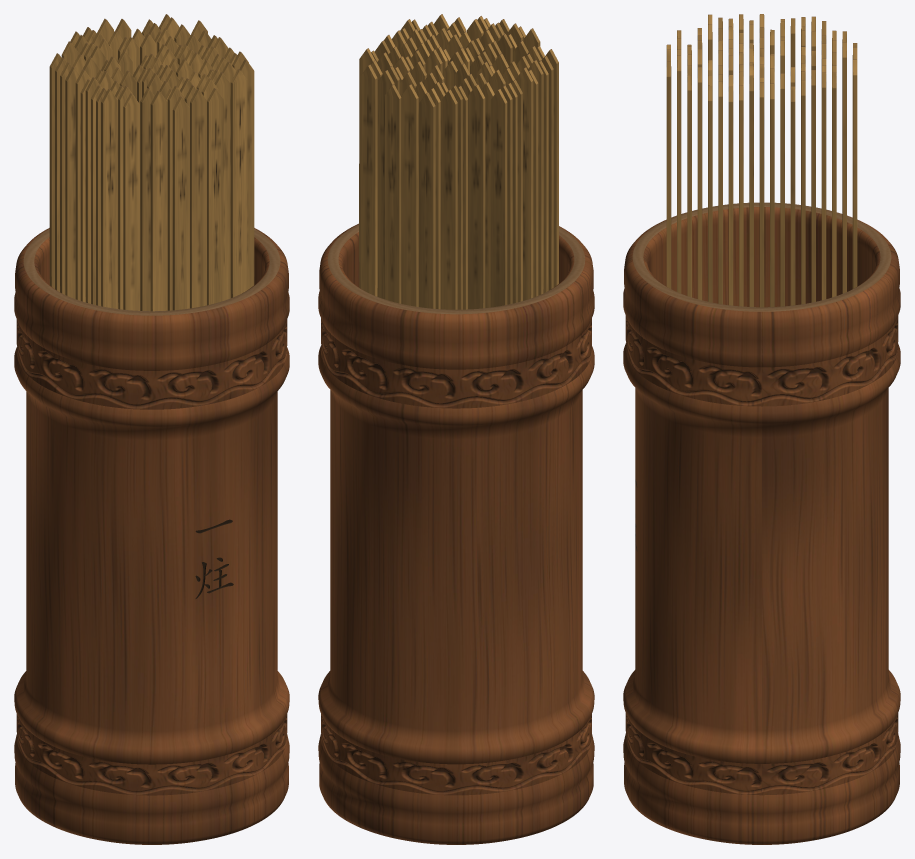
Rendered from yizhu-mobile-webp-05b6b9e70f9b.glb.
The picture shows the model from 3 angles, left to right: view 1: azimuth 30°, elevation 25°; view 2: azimuth 150°, elevation 25°; view 3: azimuth 270°, elevation 25°; orthographic projection.
Parts seen in each view (by area): view 1: Wood_vessel_surface, Timber incised collar 1, Timber incised collar 0, Stick_049, Stick_010, Stick_040, Stick_052, Stick_073, Stick_079, Stick_019, Stick_027, Stick_058 (+12 smaller); view 2: Wood_vessel_surface, Timber incised collar 1, Timber incised collar 0, Stick_089, Stick_021, Stick_013, Stick_044, Stick_064, Stick_034, Stick_085, Stick_086, Stick_028 (+14 smaller); view 3: Wood_vessel_surface, Timber incised collar 1, Timber incised collar 0, Stick_019, Stick_003, Stick_078, Stick_009, Stick_083, Stick_097, Stick_063, Stick_100, Stick_015 (+10 smaller).
Boxes of the visible parts, x1,y1,x2,y2 form: Wood_vessel_surface: [14, 228, 289, 844]; Timber incised collar 1: [16, 319, 287, 409]; Timber incised collar 0: [16, 714, 287, 795]; Stick_049: [230, 69, 247, 297]; Stick_010: [150, 90, 167, 311]; Stick_040: [172, 96, 189, 310]; Stick_052: [101, 88, 117, 308]; Stick_073: [190, 88, 206, 308]; Stick_079: [123, 93, 139, 310]; Stick_019: [207, 88, 223, 305]; Stick_027: [65, 66, 79, 298]; Stick_058: [140, 88, 154, 311]; Wood_vessel_surface: [318, 223, 594, 844]; Timber incised collar 1: [321, 318, 591, 408]; Timber incised collar 0: [321, 714, 591, 795]; Stick_089: [468, 84, 485, 309]; Stick_021: [401, 84, 418, 306]; Stick_013: [490, 89, 507, 307]; Stick_044: [384, 84, 401, 303]; Stick_064: [361, 64, 377, 296]; Stick_034: [441, 89, 457, 309]; Stick_085: [419, 92, 435, 308]; Stick_086: [516, 67, 533, 300]; Stick_028: [378, 70, 394, 299]; Wood_vessel_surface: [623, 202, 900, 844]; Timber incised collar 1: [625, 315, 898, 406]; Timber incised collar 0: [625, 713, 898, 795]; Stick_019: [666, 61, 671, 288]; Stick_003: [821, 72, 826, 300]; Stick_078: [759, 82, 764, 307]; Stick_009: [790, 86, 795, 305]; Stick_083: [728, 86, 733, 305]; Stick_097: [842, 42, 846, 293]; Stick_063: [677, 55, 681, 293]; Stick_100: [780, 73, 784, 306]; Stick_015: [697, 67, 701, 300].
Size of the model in its own units: 0.1288 by 0.381 by 0.1288.
6 materials, 5 textured.
